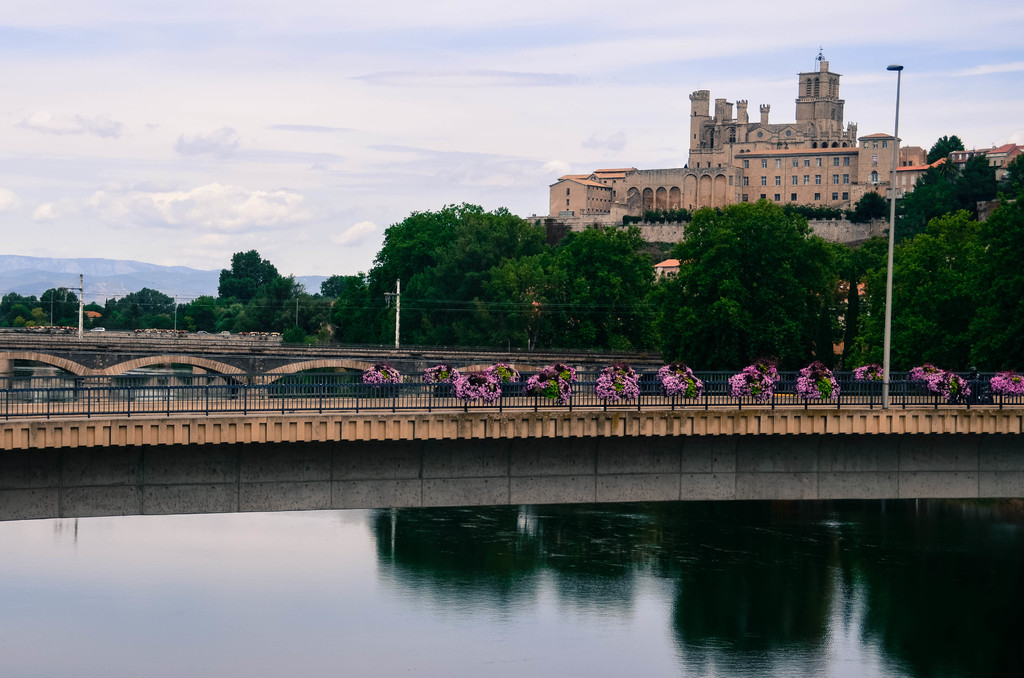Tree: (0, 121, 1023, 389), (198, 240, 289, 316)
